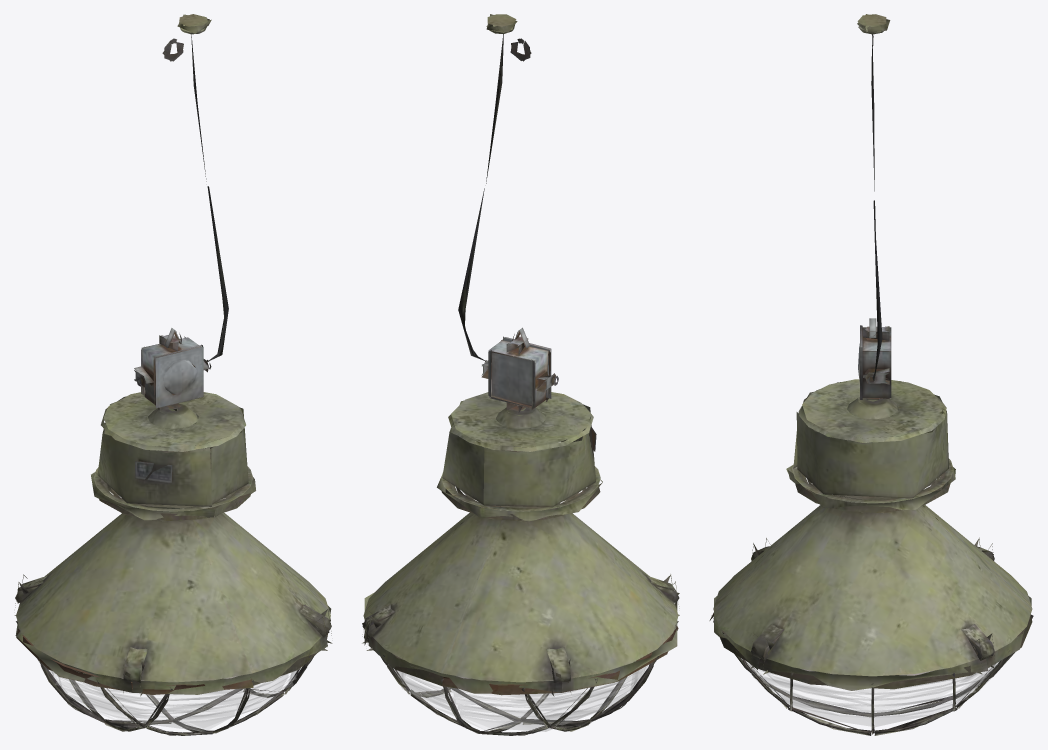
The model's file is hanging_industrial_lamp.glb.
3 renders of one model, left to right at view 1: azimuth 30°, elevation 25°; view 2: azimuth 150°, elevation 25°; view 3: azimuth 270°, elevation 25°, orthographic.
Visible parts, largest first — view 1: hanging_industrial_lamp; view 2: hanging_industrial_lamp; view 3: hanging_industrial_lamp.
Boxes of the visible parts, x1,y1,x2,y2 form: hanging_industrial_lamp: (14, 14, 332, 735); hanging_industrial_lamp: (362, 14, 679, 735); hanging_industrial_lamp: (709, 14, 1033, 735).
Bounding box in the file's own units: 0.5632 × 1.34 × 0.5587.
2 materials, 1 textured.
